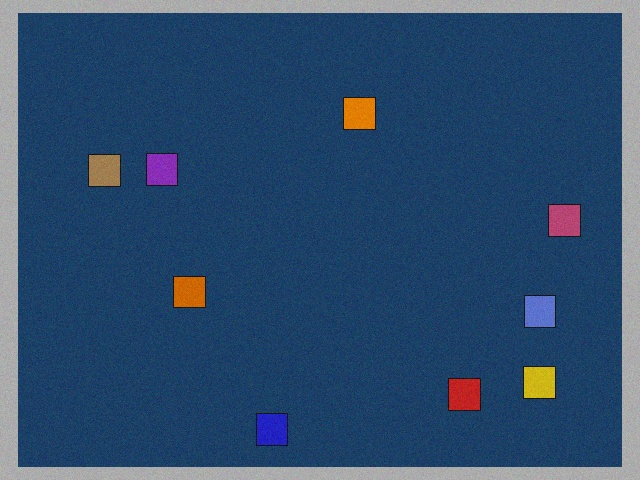block: (513, 360, 556, 398), (442, 371, 481, 411), (513, 292, 556, 327), (89, 155, 132, 190), (536, 205, 580, 237), (146, 154, 186, 189), (256, 404, 290, 445), (174, 274, 212, 308), (342, 97, 376, 135)
